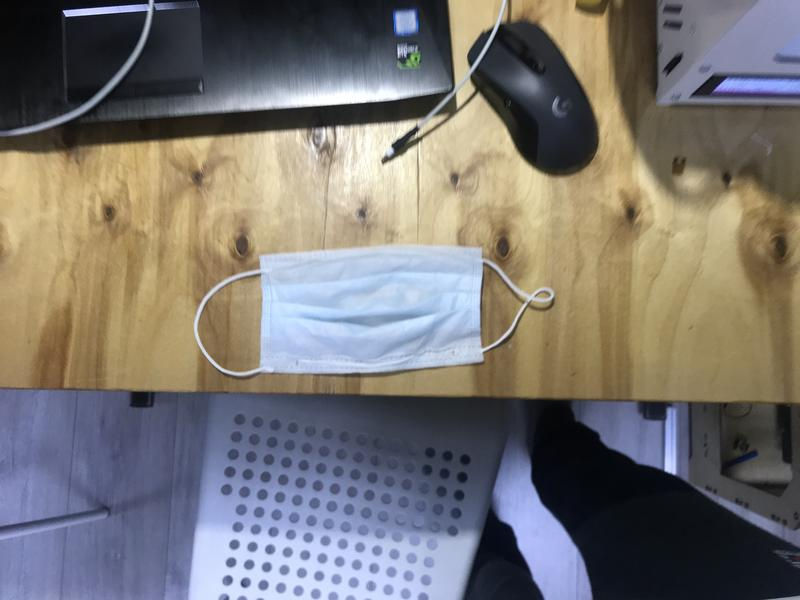medical_mask: (194, 246, 554, 380)
